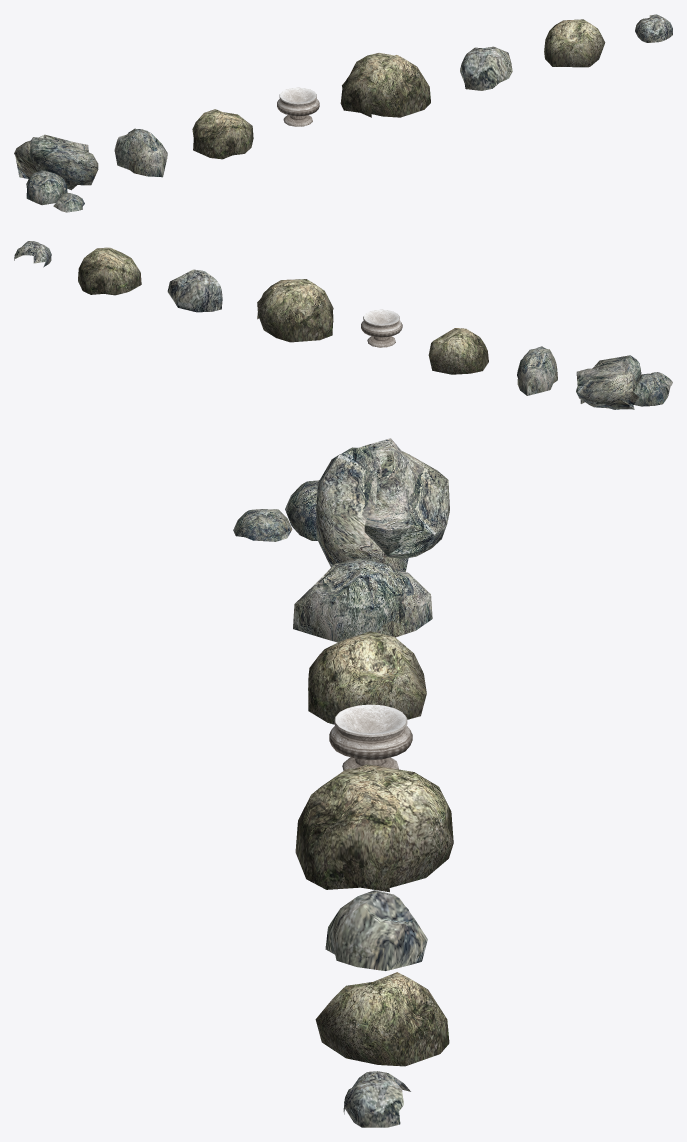
File: rock.fbx
The picture shows the model from 3 angles, top to bottom: view 1: azimuth 30°, elevation 25°; view 2: azimuth 150°, elevation 25°; view 3: azimuth 270°, elevation 25°; orthographic projection. The views are drawn at different scales.
Visible parts, largest first — view 1: rock7, rock1, rock2, rock5, rock3, rock4, bottle, rock6; view 2: rock1, rock7, rock5, rock2, rock4, rock3, bottle, rock6; view 3: rock7, rock1, rock5, rock3, rock2, rock4, bottle, rock6.
Part boxes in pixels (x1,y1,x2,y2): rock7: (14, 134, 98, 212); rock1: (340, 53, 430, 117); rock2: (192, 109, 253, 159); rock5: (544, 19, 605, 67); rock3: (114, 128, 167, 177); rock4: (460, 46, 512, 90); bottle: (277, 87, 319, 126); rock6: (635, 14, 672, 42); rock1: (257, 279, 333, 342); rock7: (576, 355, 672, 409); rock5: (78, 247, 141, 295); rock2: (428, 328, 488, 374); rock4: (167, 269, 222, 312); rock3: (517, 346, 557, 395); bottle: (361, 309, 402, 347); rock6: (14, 241, 51, 267); rock7: (233, 438, 449, 571); rock1: (295, 764, 453, 892); rock5: (315, 972, 449, 1066); rock3: (293, 558, 432, 642); rock2: (308, 631, 426, 724); rock4: (325, 890, 427, 970); bottle: (329, 704, 412, 770); rock6: (343, 1071, 410, 1127).
Bounding box in the file's own units: 2621 × 209 × 394.
3 materials, 3 textured.
